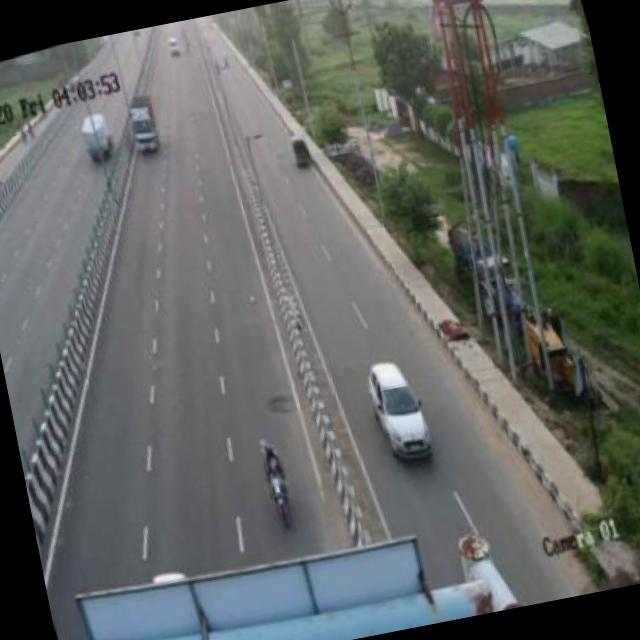car: (355, 349, 447, 472)
